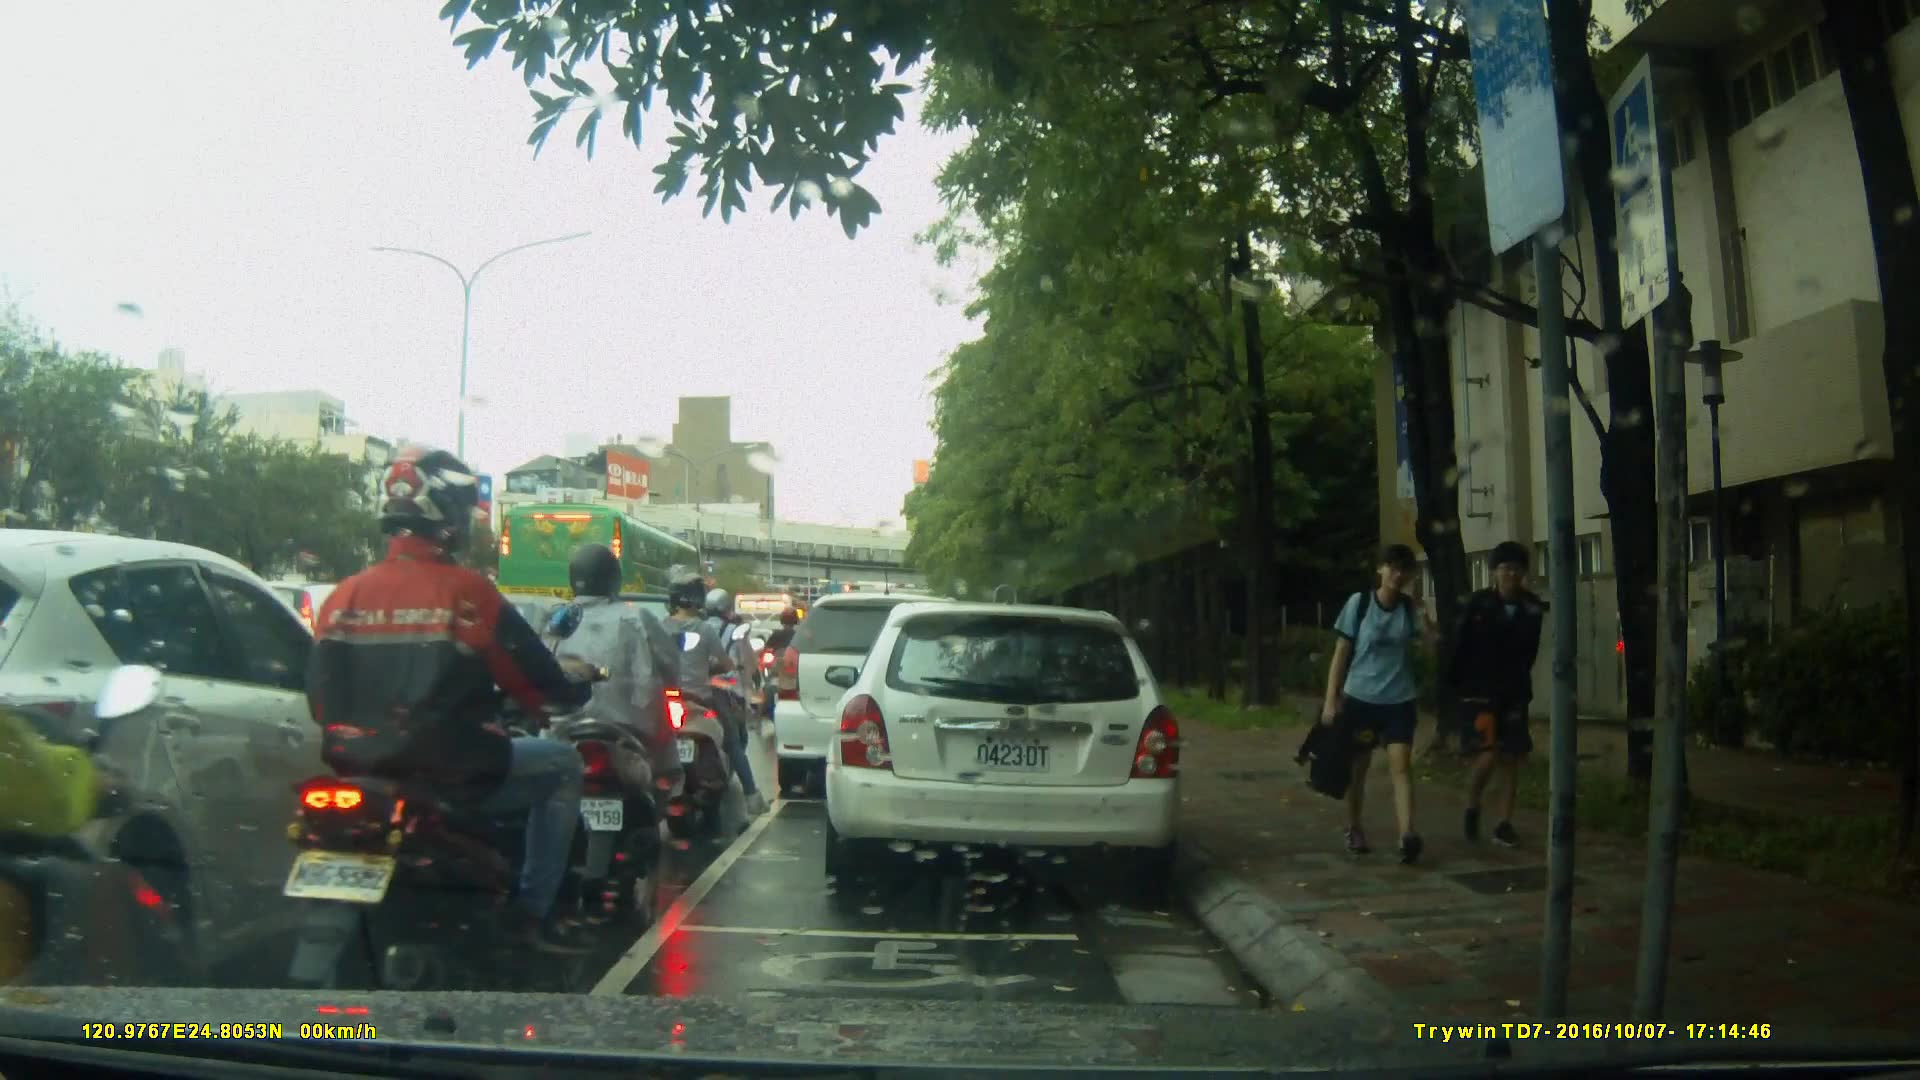pedestrian: (1301, 536, 1457, 865), (1452, 539, 1549, 860)
rider: (282, 441, 608, 1007), (528, 547, 709, 900), (637, 564, 752, 828), (692, 587, 766, 771), (765, 601, 811, 725)
vehicle: (1, 529, 454, 988), (831, 592, 1196, 897), (320, 590, 628, 783), (770, 590, 999, 803), (495, 501, 707, 636)
